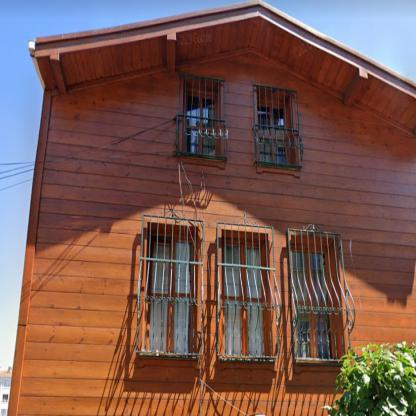window: (147, 238, 191, 354), (225, 244, 265, 357), (291, 250, 332, 360), (185, 95, 215, 156), (258, 106, 287, 164)
